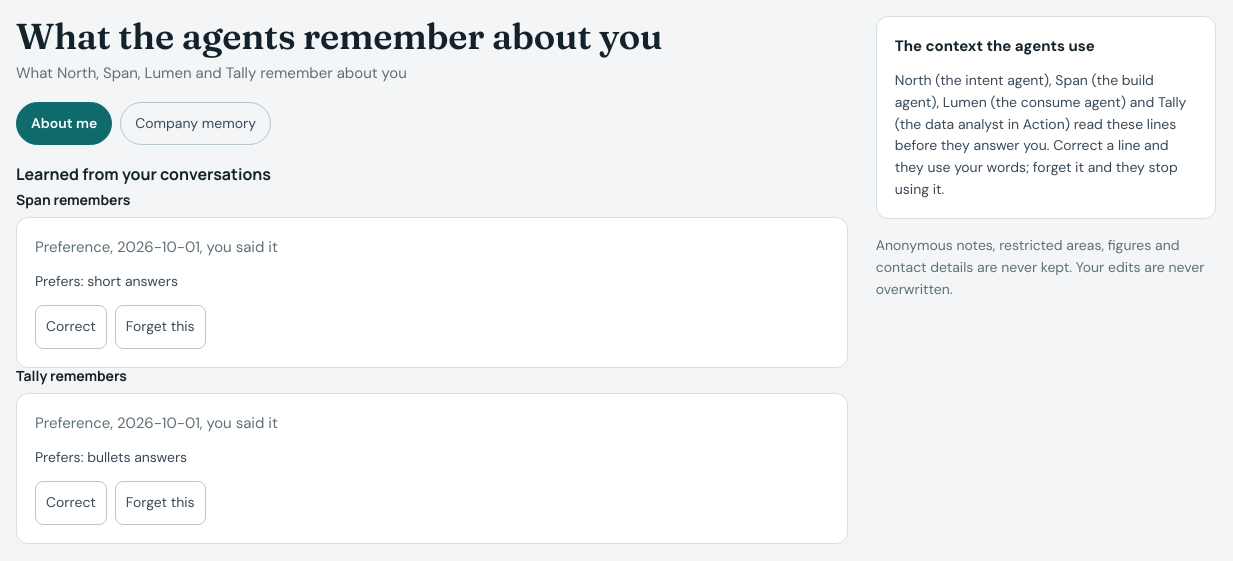
Test case: a participant reads company memory but cannot add to it
Click the tab "Company memory". click: (196, 123)
box: [120,102,271,145]
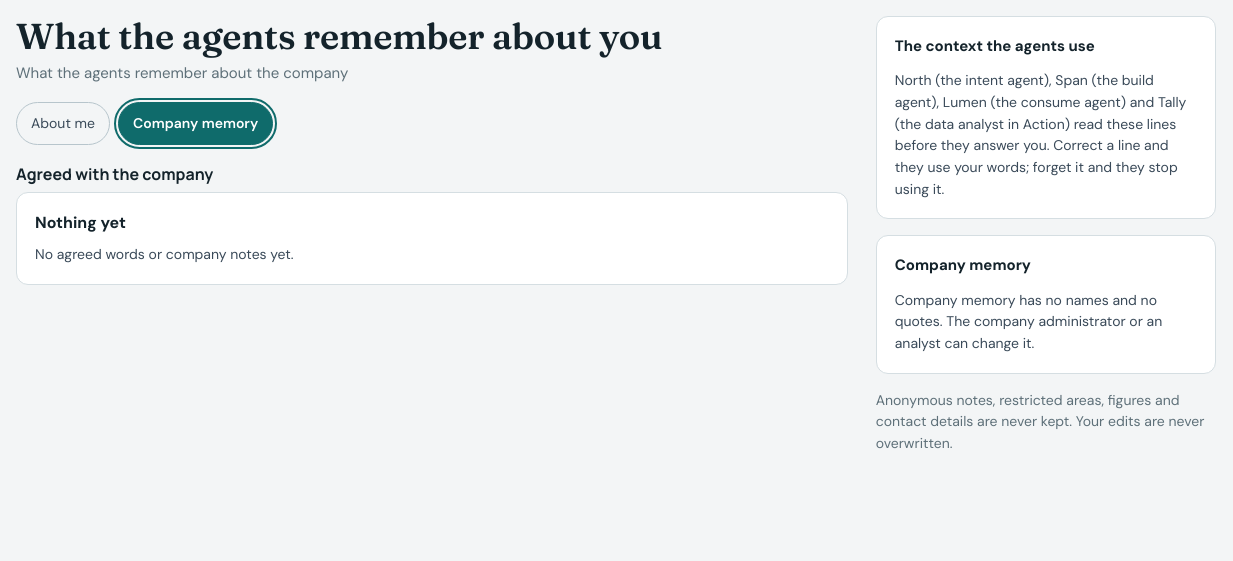
Now the text "Nothing yet" is shown, box [35,212,126,233]
